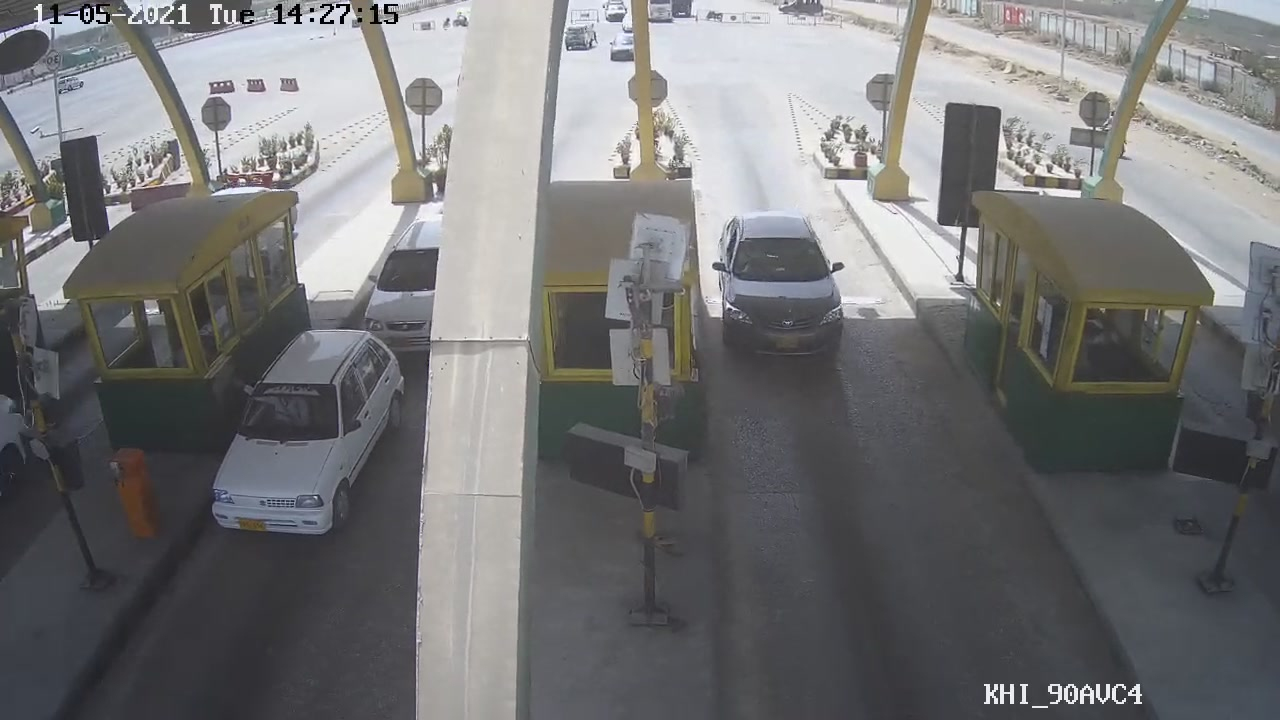F1: (705, 205, 857, 361)
